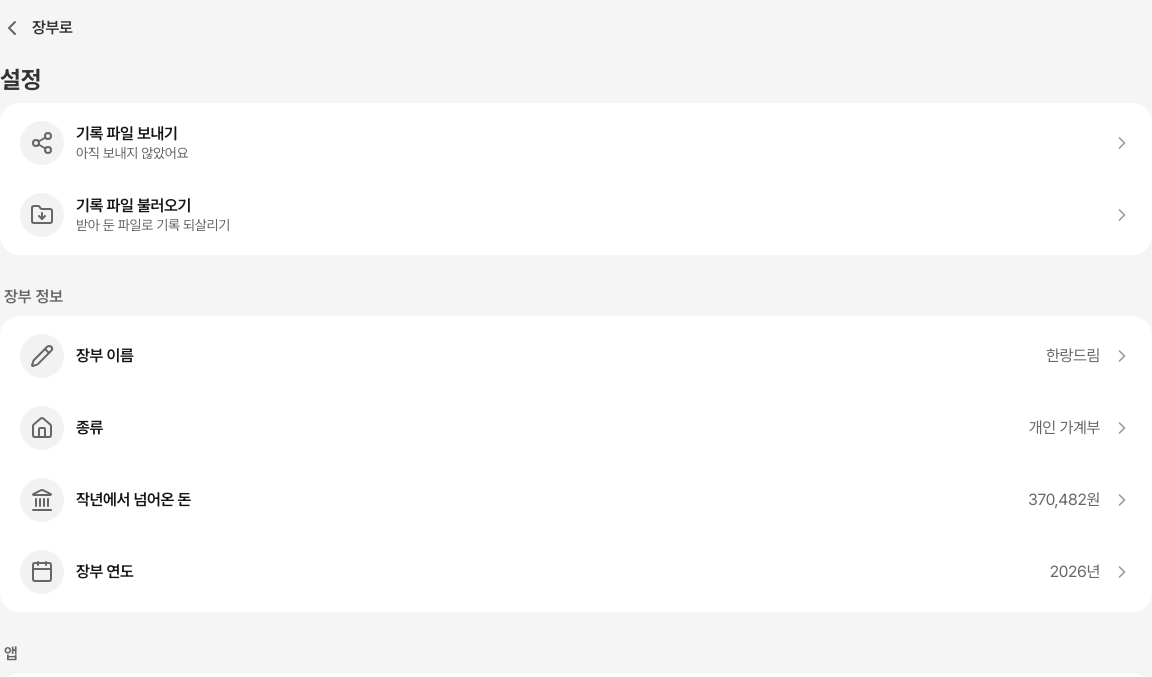
SPEC-001·002 설정 화면 › SPEC-005 장부 정보 › 가계부 장부는 종류 줄이 "개인 가계부"(집 아이콘)이고 이월금 줄 이름이 종류에 맞다
Expected: the button with test id "list-row" reads "종류 개인 가계부", [0,392,1151,464]
Click the button "작년에서 넘어온 돈 370,482원" at (42, 500), box [0,464,1151,536]
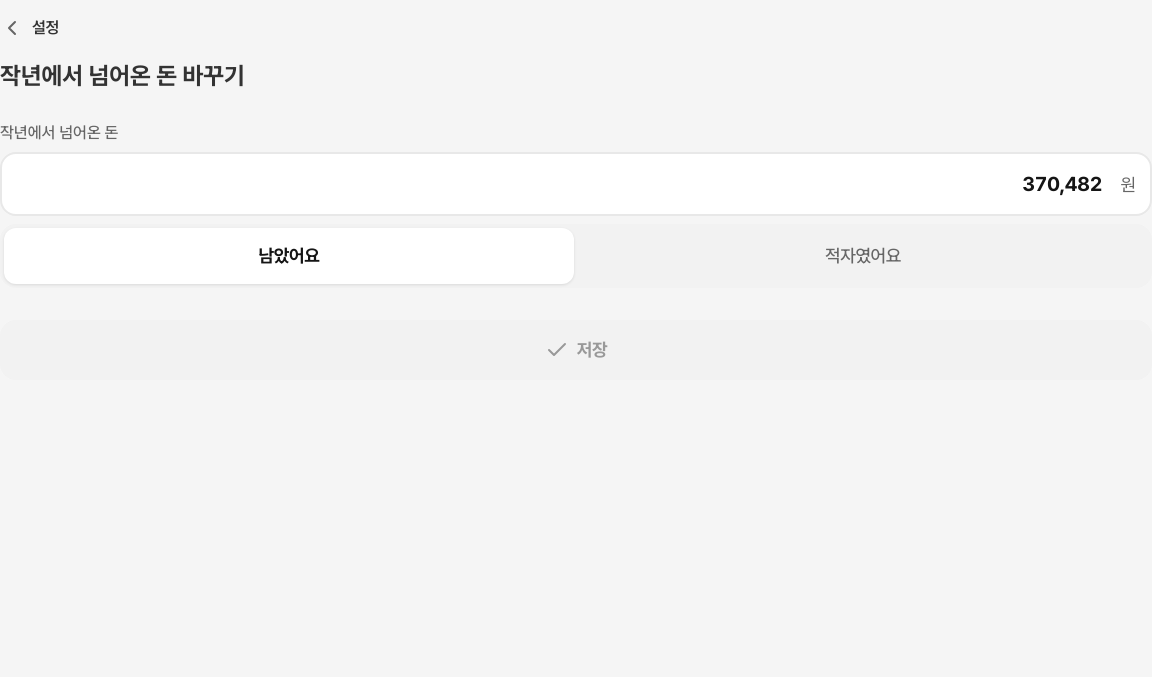
Result: the heading "작년에서 넘어온 돈 바꾸기" is shown at [0,61,245,90]
Result: the field labelled "작년에서 넘어온 돈" holds "370,482" at [0,152,1151,216]
